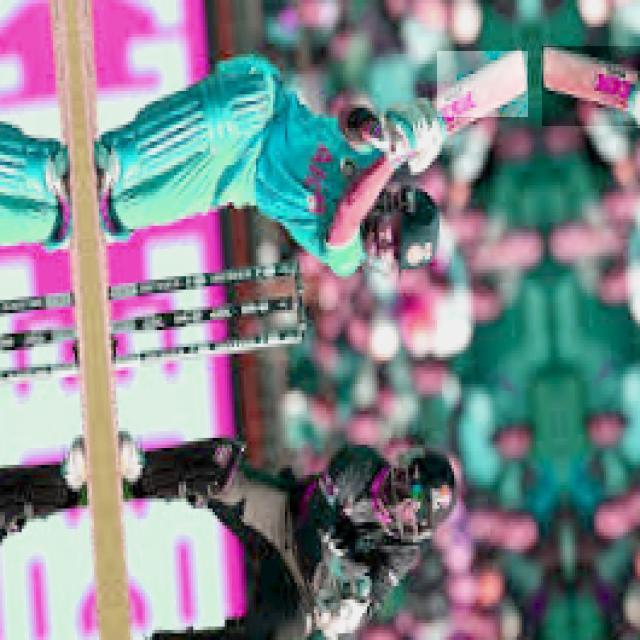bat: (435, 53, 527, 116)
